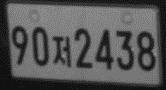0: (31, 26, 48, 66)
2: (73, 27, 93, 69)
3: (116, 29, 134, 71)
4: (94, 29, 114, 70)
8: (136, 31, 156, 71)
9: (10, 25, 28, 65)
저: (51, 35, 71, 67)
